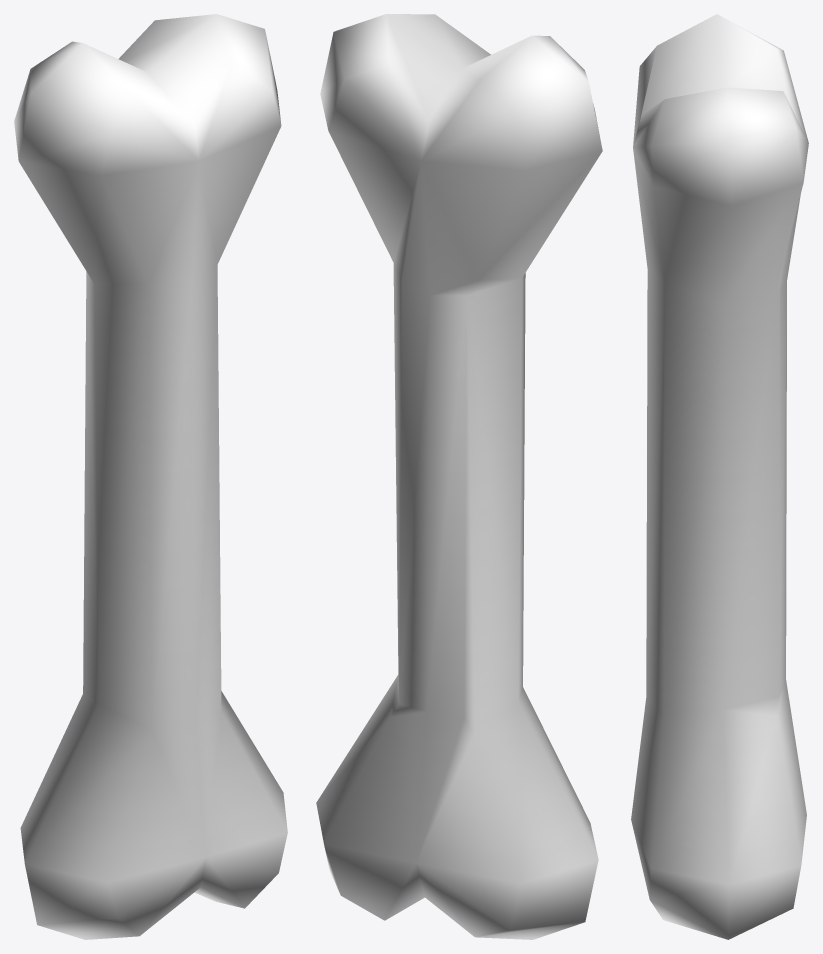
The model's file is SM_Bone_01.fbx.
3 renders of one model, left to right at view 1: azimuth 30°, elevation 25°; view 2: azimuth 150°, elevation 25°; view 3: azimuth 270°, elevation 25°, orthographic. The views are drawn at different scales.
Parts seen in each view (by area): view 1: SM_Bone_01; view 2: SM_Bone_01; view 3: SM_Bone_01.
Boxes of the visible parts, bbox=[...] form: SM_Bone_01: bbox=[14, 14, 287, 939]; SM_Bone_01: bbox=[316, 14, 602, 939]; SM_Bone_01: bbox=[631, 14, 808, 939].
Size of the model in its own units: 53.93 by 168 by 31.54.
1 material, 1 textured.
